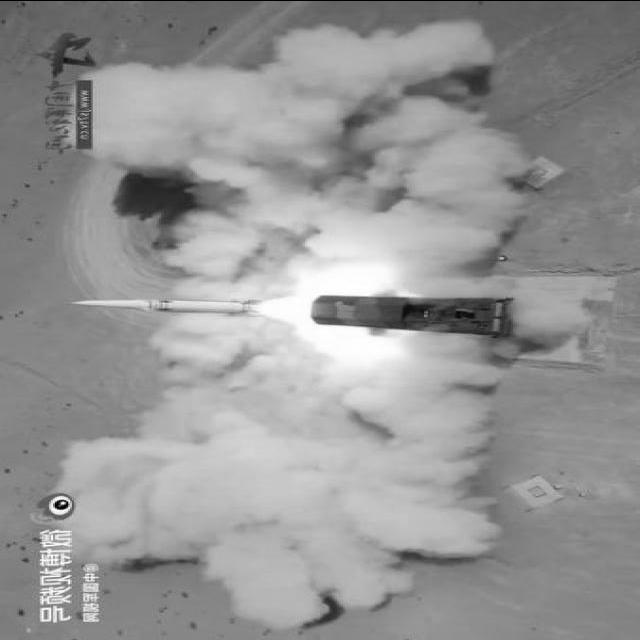missile: (62, 291, 265, 318)
